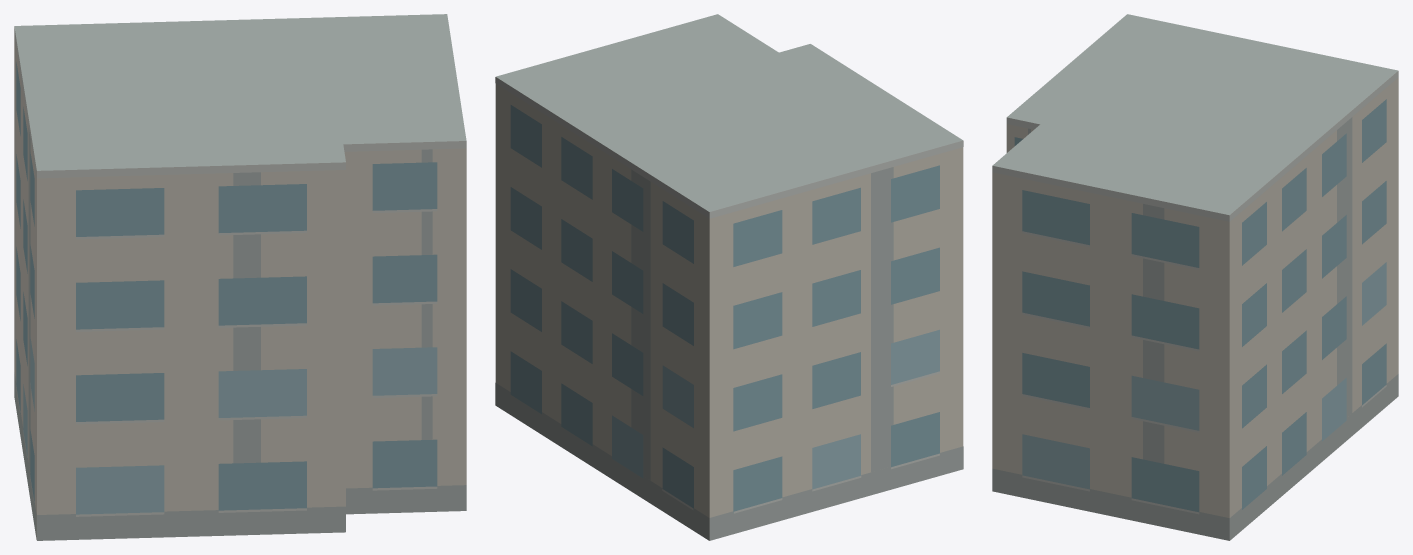
File: residential-2ba3eb10-6b8a-43f8-999b-c57ecf781a34.glb
The picture shows the model from 3 angles, left to right: view 1: azimuth 30°, elevation 25°; view 2: azimuth 150°, elevation 25°; view 3: azimuth 270°, elevation 25°; orthographic projection. The views are drawn at different scales.
Parts seen in each view (by area): view 1: residential-2ba3eb10-6b8a-43f8-999b-c57ecf781a34.tmp; view 2: residential-2ba3eb10-6b8a-43f8-999b-c57ecf781a34.tmp; view 3: residential-2ba3eb10-6b8a-43f8-999b-c57ecf781a34.tmp.
Boxes of the visible parts, x1,y1,x2,y2 form: residential-2ba3eb10-6b8a-43f8-999b-c57ecf781a34.tmp: (14,14,466,540); residential-2ba3eb10-6b8a-43f8-999b-c57ecf781a34.tmp: (495,14,963,540); residential-2ba3eb10-6b8a-43f8-999b-c57ecf781a34.tmp: (992,14,1398,540).
Bounding box in the file's own units: 15.91 × 12 × 13.58.
